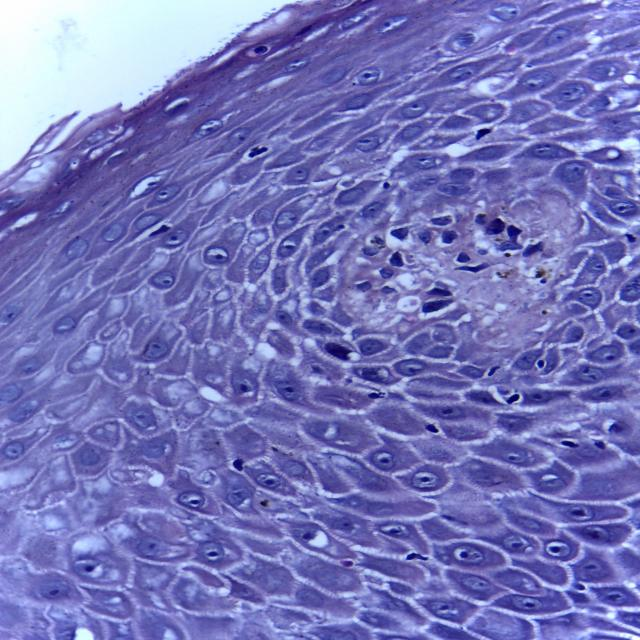Multiple Nucleol: (172, 491, 212, 512), (571, 363, 611, 384), (453, 542, 484, 567), (358, 338, 388, 357)
Nuclear Hyperchromatism: (315, 341, 367, 363)
